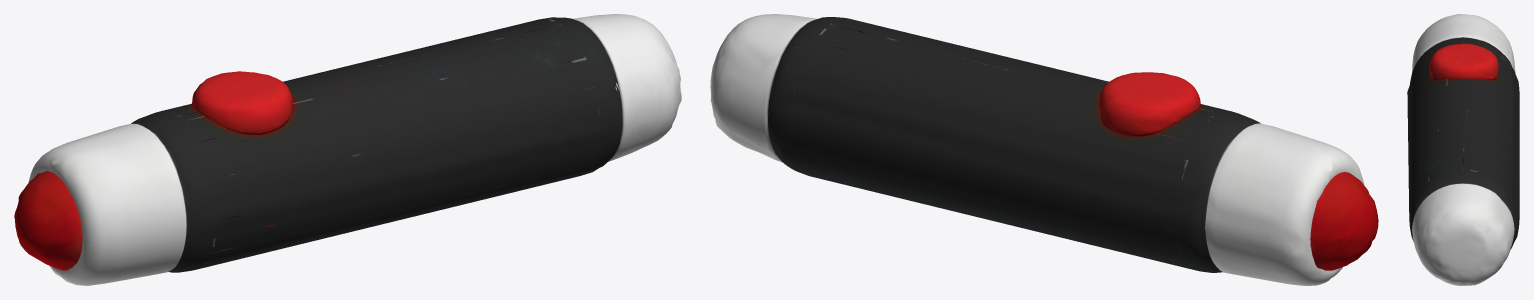
File: laser.glb
3 views of the same model, side by side, from view 1: azimuth 30°, elevation 25°; view 2: azimuth 150°, elevation 25°; view 3: azimuth 270°, elevation 25° (orthographic). The views are drawn at different scales.
Parts seen in each view (by area): view 1: geometry_0; view 2: geometry_0; view 3: geometry_0.
Boxes of the visible parts, x1,y1,x2,y2 form: geometry_0: (14, 14, 681, 285); geometry_0: (710, 14, 1378, 285); geometry_0: (1407, 14, 1519, 285).
Size of the model in its own units: 0.9526 by 0.2285 by 0.2119.
1 material, 1 textured.
